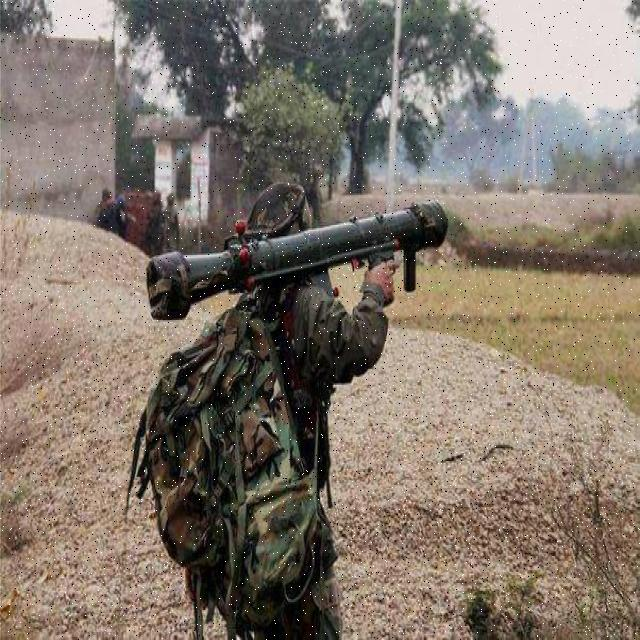bazooka: (146, 201, 456, 326)
